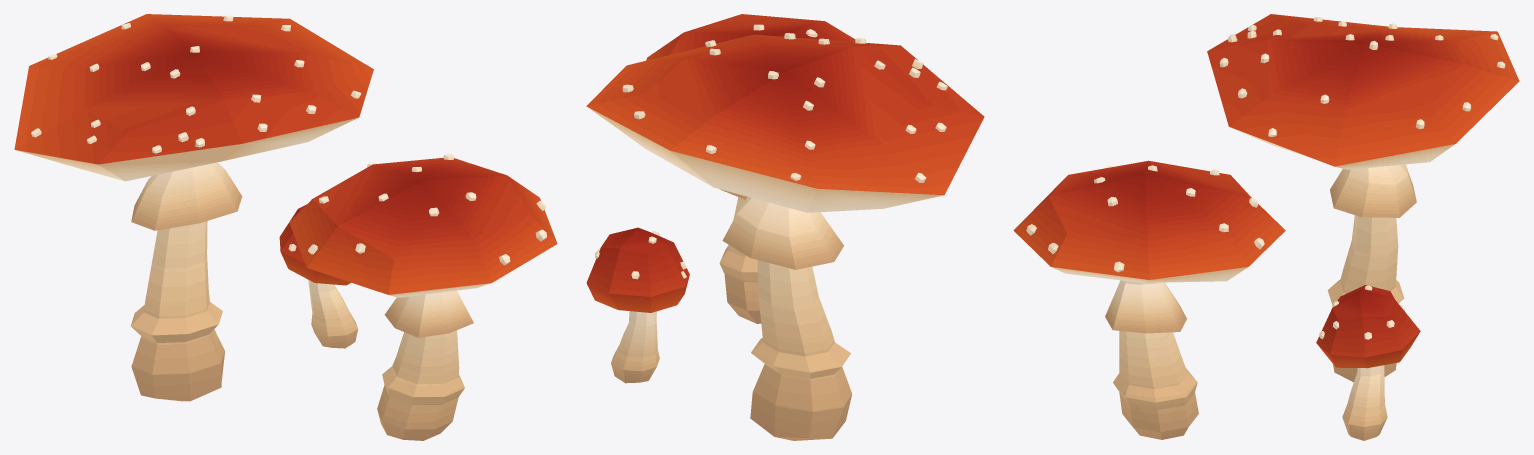
File: Fly agaric_Group Bunch.glb
3 views of the same model, side by side, from view 1: azimuth 30°, elevation 25°; view 2: azimuth 150°, elevation 25°; view 3: azimuth 270°, elevation 25° (orthographic). The views are drawn at different scales.
Visible parts, largest first — view 1: Mushroom Bunch; view 2: Mushroom Bunch; view 3: Mushroom Bunch.
Part boxes in pixels (bbox=[...]): Mushroom Bunch: bbox=[14, 14, 557, 440]; Mushroom Bunch: bbox=[586, 14, 984, 440]; Mushroom Bunch: bbox=[1013, 14, 1519, 440].
Size of the model in its own units: 10.66 by 8.79 by 11.62.
Materials: 1 (1 with a texture image).
